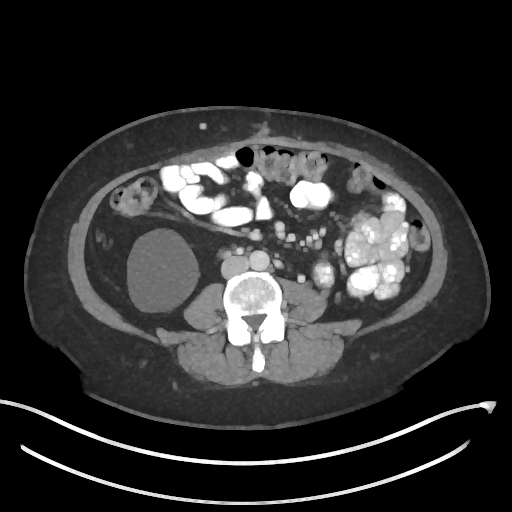Lesion: (123, 226, 201, 315)
